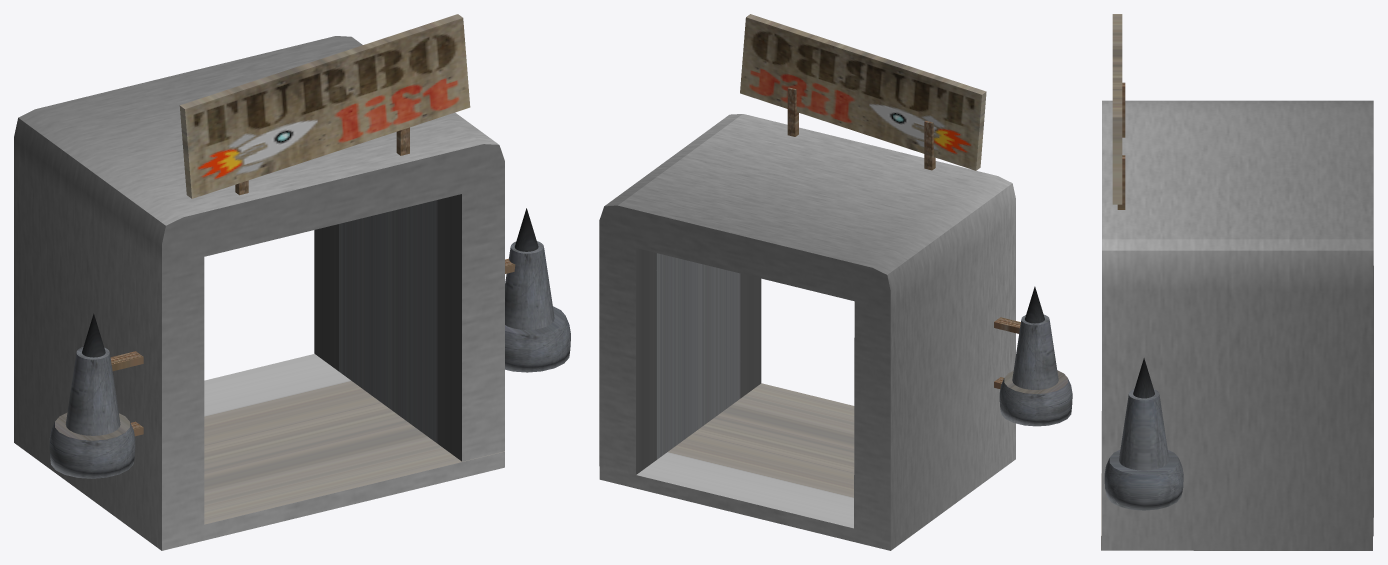
The model's file is elevator.FBX.
3 views of the same model, side by side, from view 1: azimuth 30°, elevation 25°; view 2: azimuth 150°, elevation 25°; view 3: azimuth 270°, elevation 25° (orthographic). The views are drawn at different scales.
Visible parts, largest first — view 1: Box001; view 2: Box001; view 3: Box001.
Boxes of the visible parts, box(x1,y1,x2,y2) form: Box001: box(14, 14, 570, 550); Box001: box(599, 14, 1072, 550); Box001: box(1101, 14, 1373, 550).
Size of the model in its own units: 9.98 by 8.47 by 5.01.
